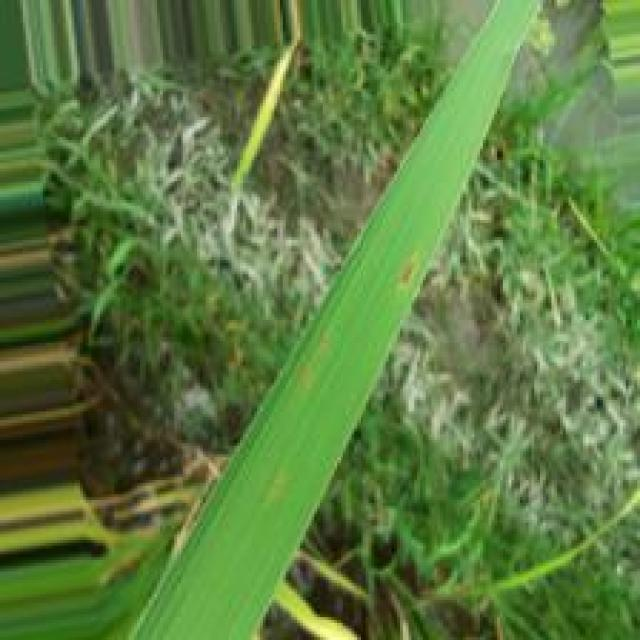HealthyLeaf: (127, 0, 553, 640)
